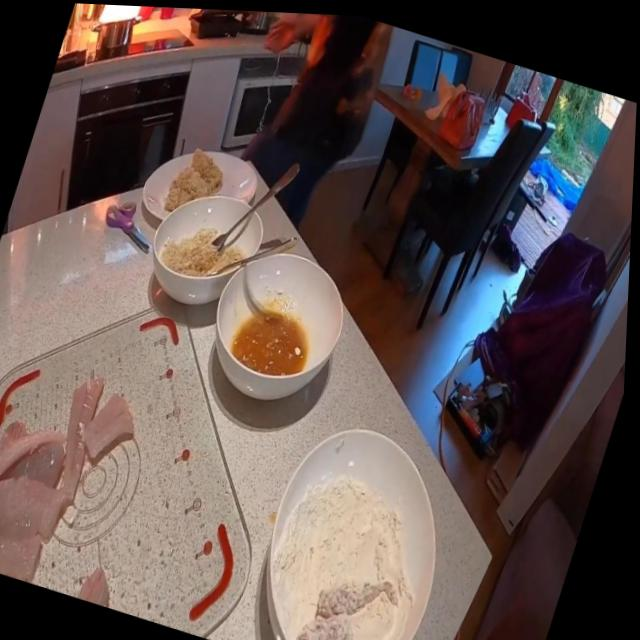fire: (90, 3, 159, 37)
